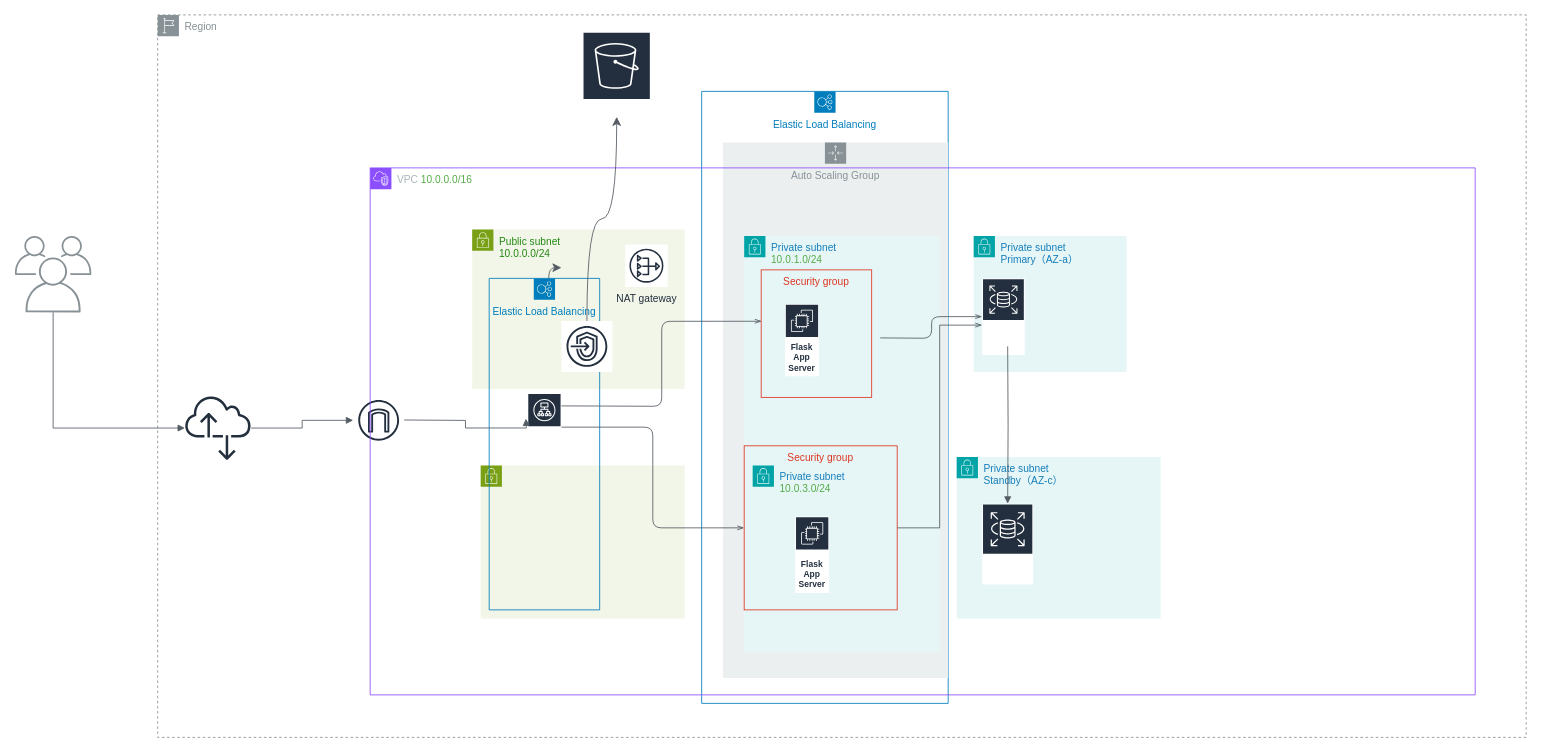
Image size: 1541x752. Some labels were removed from this diagram. The shapes that lost their labels are listed below. From the top down, each one's centre as x and y in pixels, then its label:
At (x=616, y=74): "Amazon S3".
At (x=52, y=273): "users".
At (x=1003, y=316): "RDS (Primary)".
At (x=586, y=346): "Endpoints".
At (x=378, y=420): "Internet gateway".
At (x=544, y=426): "Application Load Balancer".
At (x=582, y=541): "Public subnet 10.0.2.0/24".
At (x=1007, y=543): "RDS Standby".
